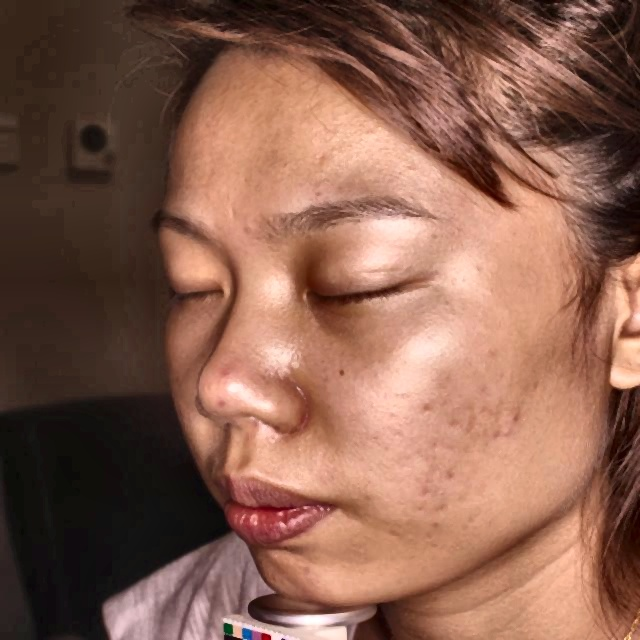comedone: (492, 404, 527, 444)
